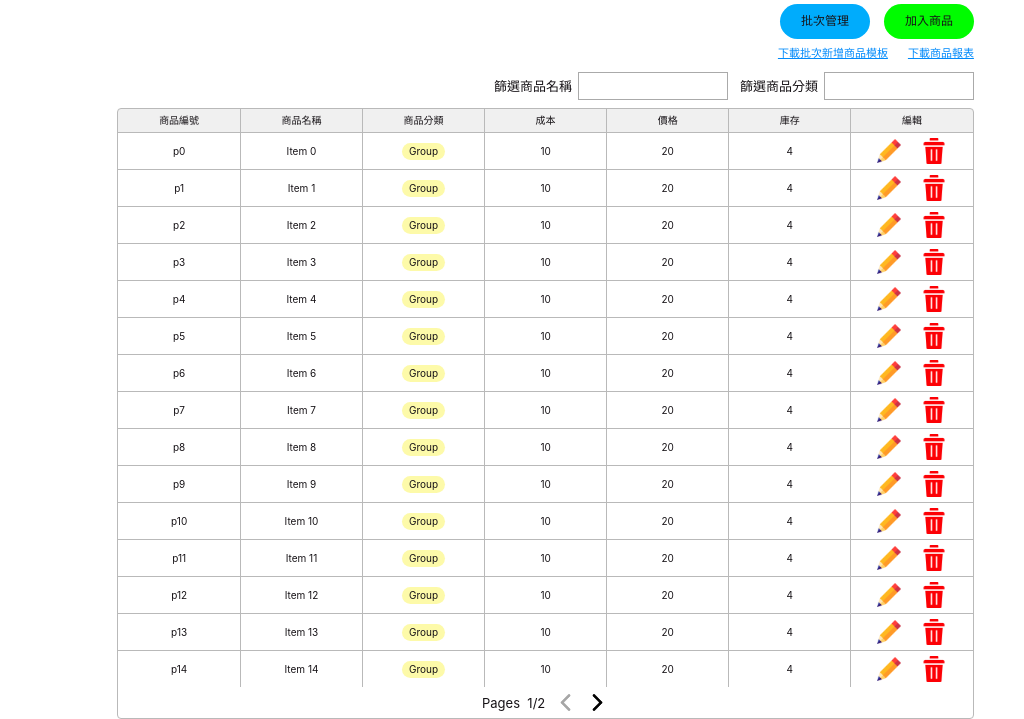
Scenario: ProductPage › pages 18 products by 15 and 3 with disabled boundary arrows
(page scrolled)
Expected: the text "Item 0" is shown, [240,133,362,170]
Expected: the text "Pages 1/2" is shown, [482,695,545,711]
Click the button named "下一頁" at (597, 703), box [585,691,609,715]
(page scrolled)
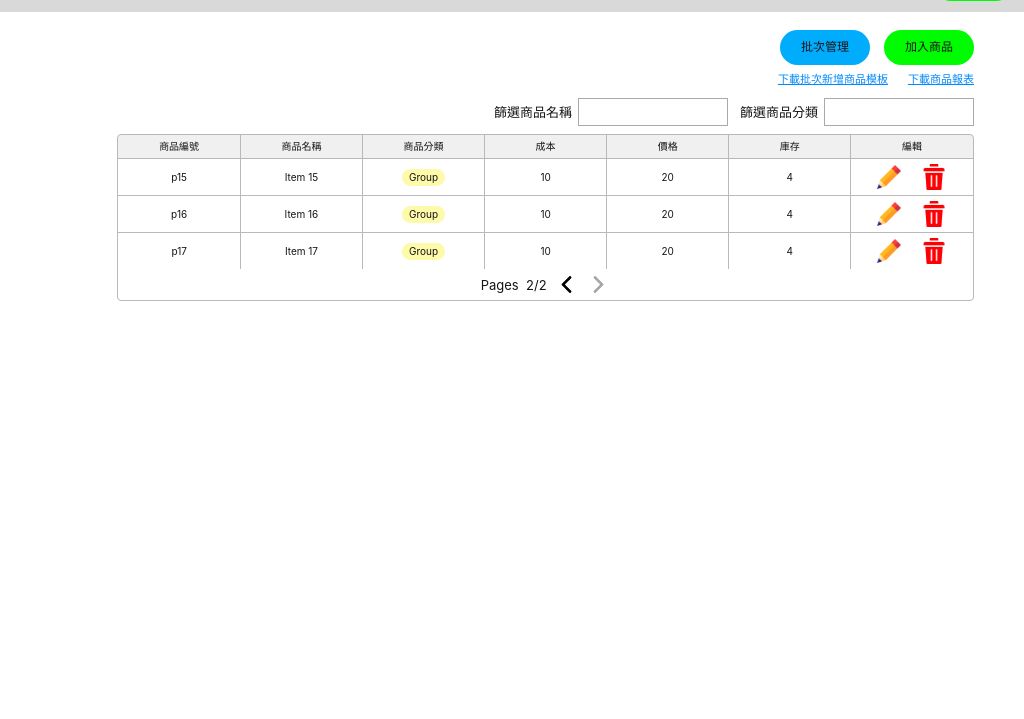
Now the text "Pages 2/2" is shown, box [481,277,547,293]
Now the number of rows is 4, box [118,135,973,159]; [118,159,973,196]; [118,196,973,233]; [118,233,973,269]
Now the button named "下一頁" is disabled, box [587,273,611,297]
